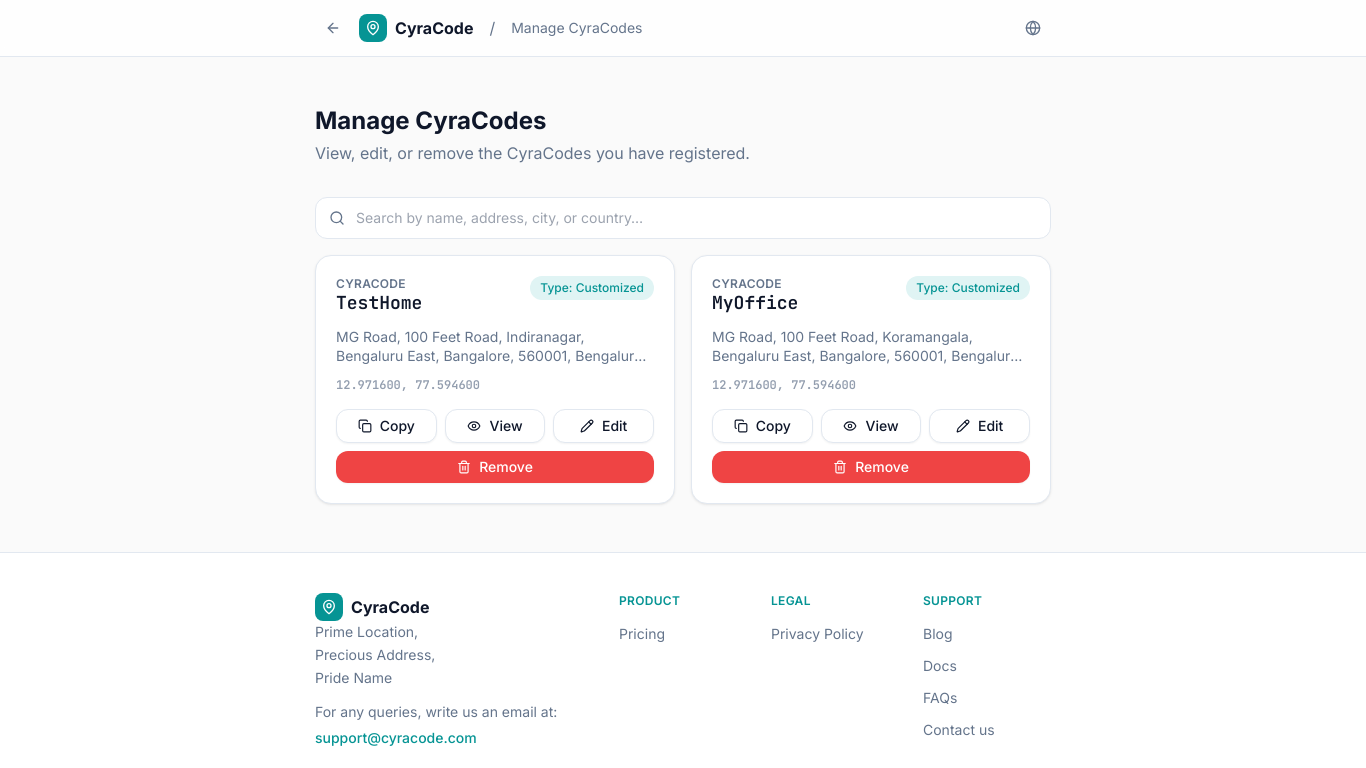
it: ManageCyraCodes — search › filters the tiles down to a single code by name
The image size is (1366, 768).
Expected: the heading "TestHome" is shown, [336,292,422,314]
Type "office" into the search field with test id "manage-search" at (683, 218), box [315,197,1051,239]
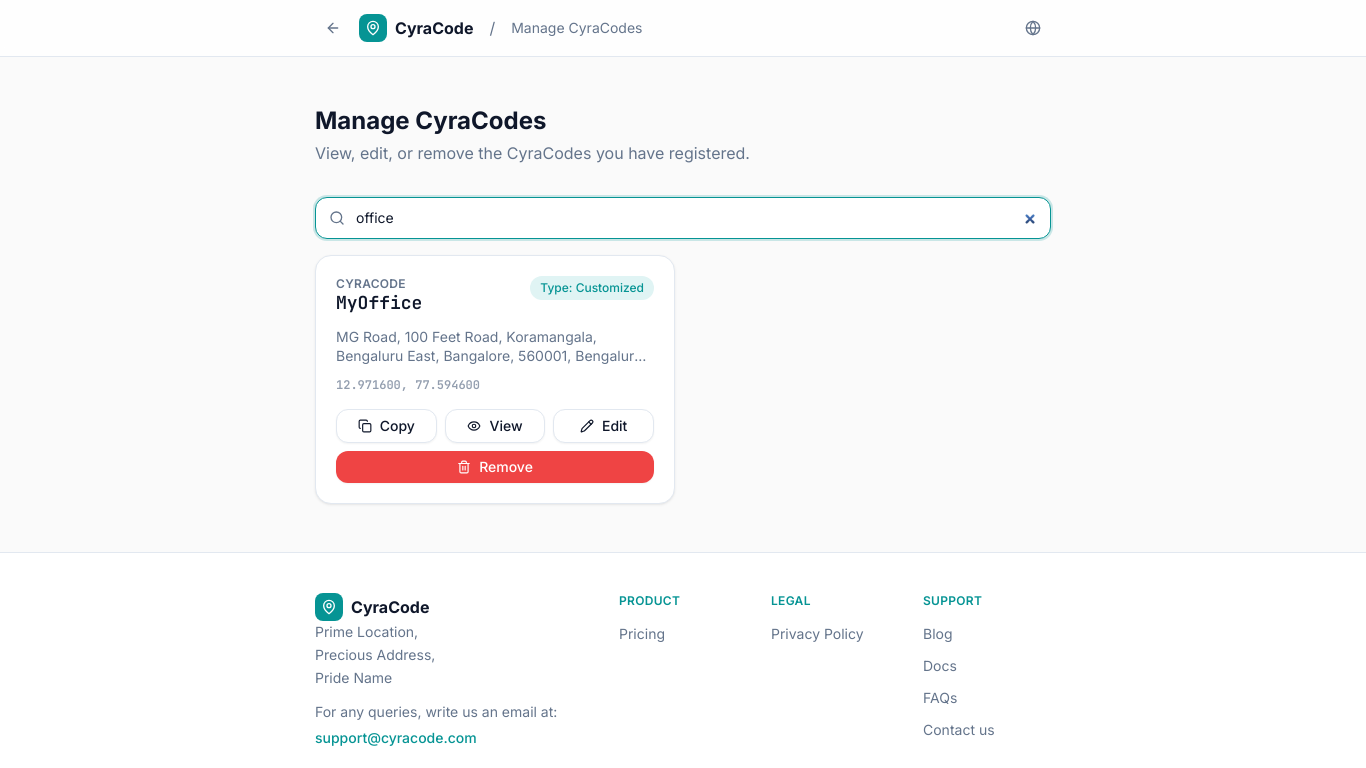
Expected: the heading "MyOffice" is shown, [336,292,422,314]
Now the heading "TestHome" is gone
